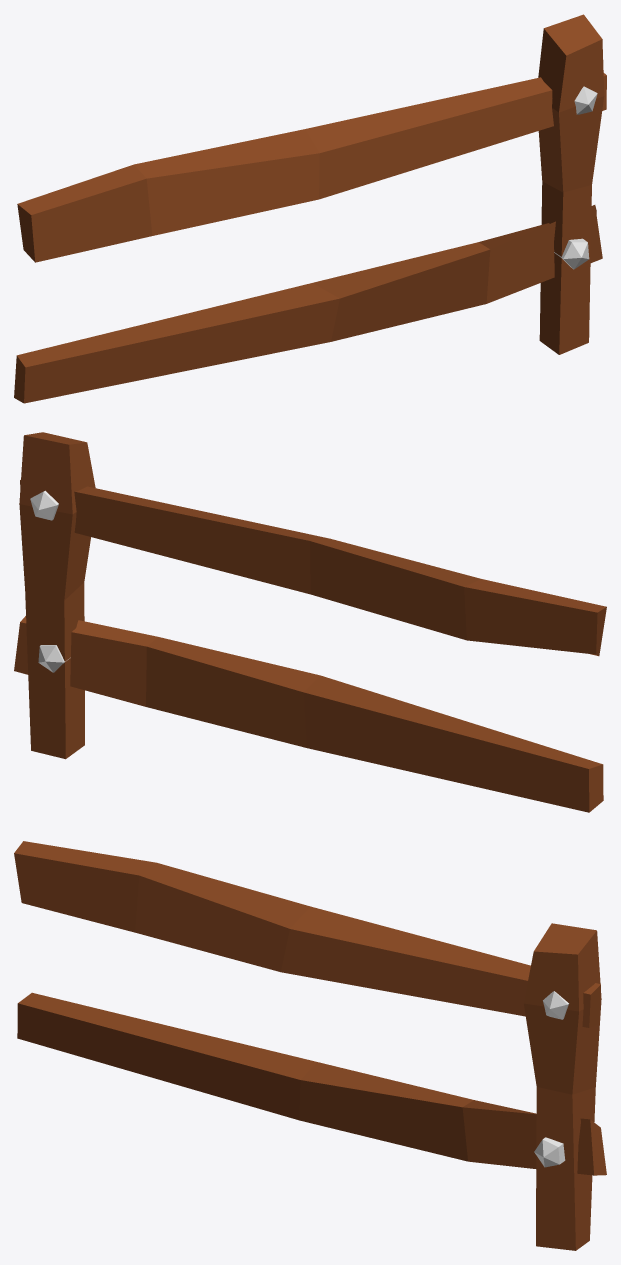
The model's file is Fence_Right.fbx.
The picture shows the model from 3 angles, top to bottom: view 1: azimuth 30°, elevation 25°; view 2: azimuth 150°, elevation 25°; view 3: azimuth 330°, elevation 25°; orthographic projection.
Visible parts, largest first — view 1: Fence_Left; view 2: Fence_Left; view 3: Fence_Left.
Part boxes in pixels (x1,y1,x2,y2): Fence_Left: (14, 14, 606, 403); Fence_Left: (14, 432, 606, 812); Fence_Left: (14, 841, 606, 1250).
Size of the model in its own units: 586 by 302 by 60.06.
